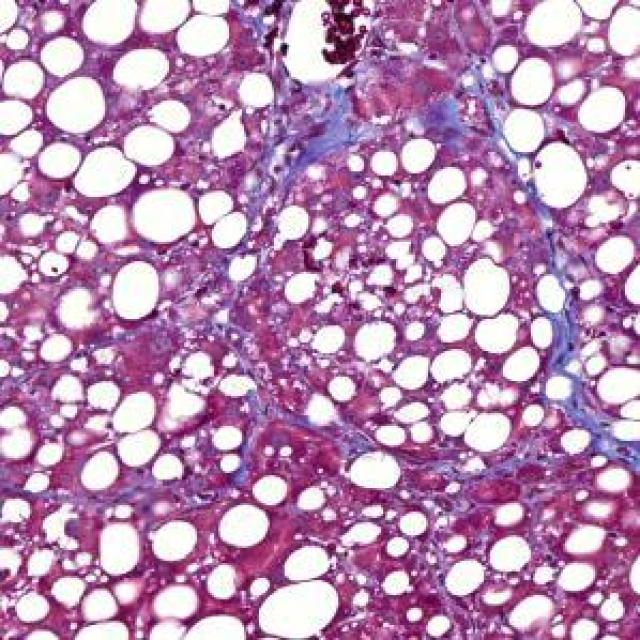fibrosis: (263, 96, 413, 178)
